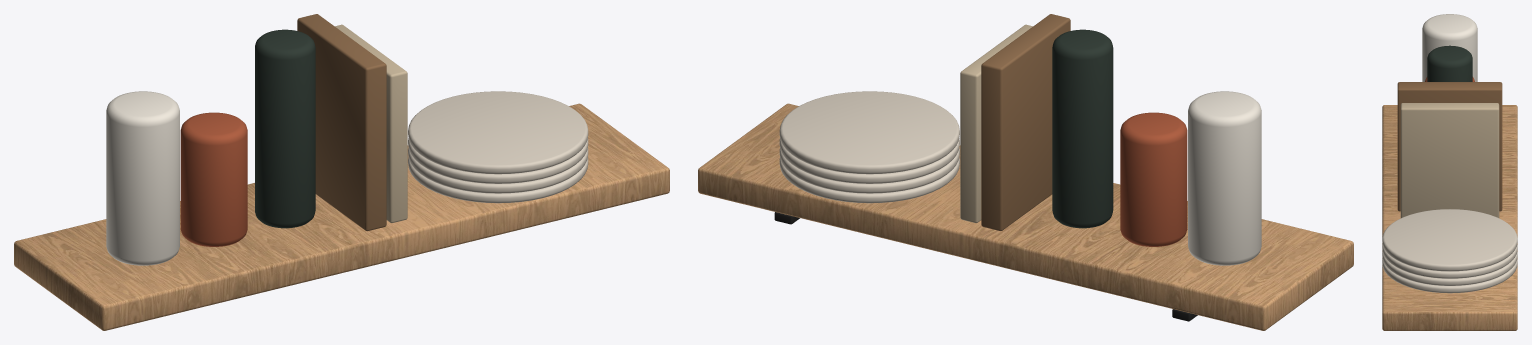
Rendered from wall-shelf-oak.glb.
3 renders of one model, left to right at view 1: azimuth 30°, elevation 25°; view 2: azimuth 150°, elevation 25°; view 3: azimuth 270°, elevation 25°, orthographic. The views are drawn at different scales.
Visible parts, largest first — view 1: plank, book, vase, plate.003, vase.002, vase.001, book.001, plate.001, plate.002, plate; view 2: plank, book, vase, plate.003, vase.002, vase.001, book.001, plate.001, plate.002, plate; view 3: book.001, plank, plate.003, book, vase, vase.002, plate.002, plate.001, plate.
Boxes of the visible parts, x1,y1,x2,y2 form: plank: (14,103,669,330); book: (297,14,386,231); vase: (106,91,179,265); plate.003: (408,91,588,174); vase.002: (255,29,315,228); vase.001: (180,112,247,246); book.001: (335,24,407,222); plate.001: (408,148,588,193); plate.002: (408,138,588,183); plate: (408,157,588,203); plank: (698,103,1353,330); book: (981,14,1070,230); vase: (1188,91,1261,265); plate.003: (779,91,959,174); vase.002: (1052,29,1113,228); vase.001: (1120,112,1187,246); book.001: (960,24,1032,222); plate.001: (779,148,959,193); plate.002: (779,138,959,183); plate: (779,157,959,203); book.001: (1400,103,1499,217); plank: (1382,105,1517,330); plate.003: (1382,209,1517,271); book: (1397,82,1502,211); vase: (1422,14,1477,81); vase.002: (1427,45,1472,81); plate.002: (1382,245,1517,278); plate.001: (1382,252,1517,285); plate: (1382,259,1517,293).
Size of the model in its own units: 0.8 by 0.287 by 0.22.
8 materials, 1 textured.
